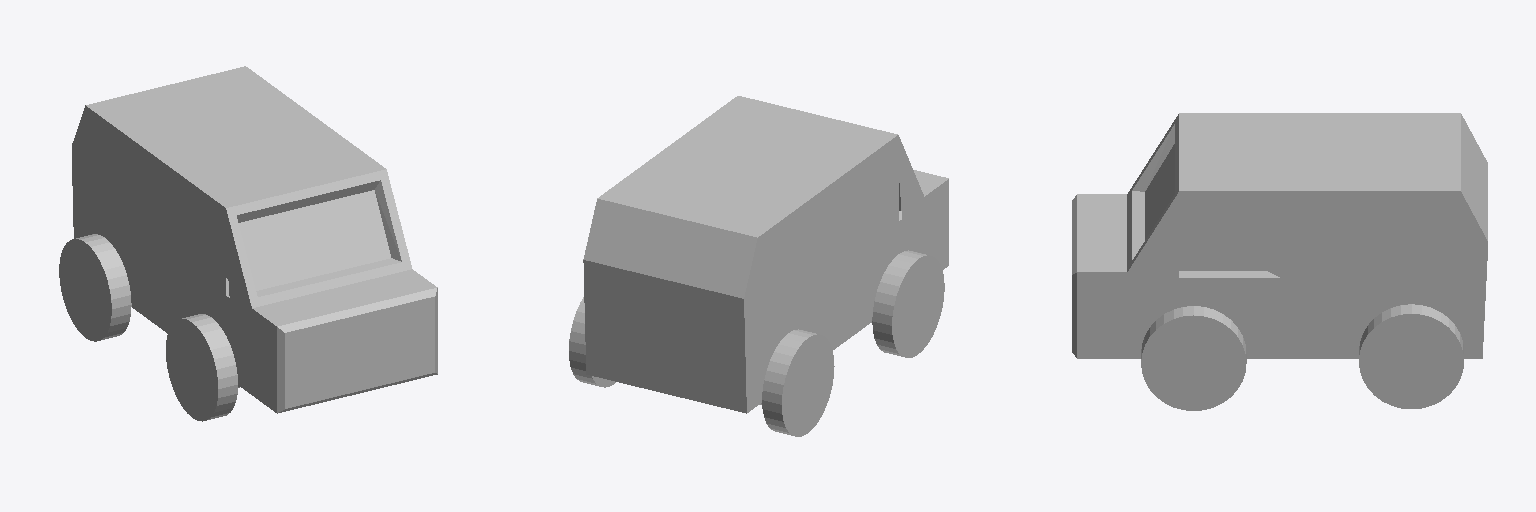
Rendered from Auto.obj.
3 views of the same model, side by side, from view 1: azimuth 30°, elevation 25°; view 2: azimuth 150°, elevation 25°; view 3: azimuth 270°, elevation 25° (orthographic).
Parts seen in each view (by area): view 1: Cube; view 2: Cube; view 3: Cube.
Part boxes in pixels (left/top/right/bottom): Cube: left=59, top=66, right=437, bottom=421; Cube: left=569, top=96, right=948, bottom=436; Cube: left=1072, top=113, right=1487, bottom=410.
Size of the model in its own units: 2.67 by 2.48 by 4.5.